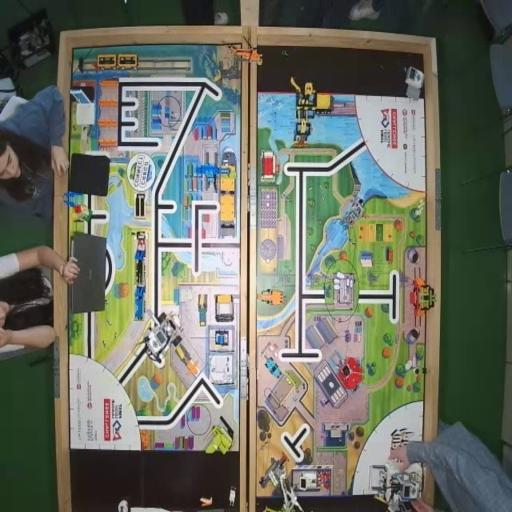lego_robot: (138, 310, 199, 378), (368, 463, 424, 512)
